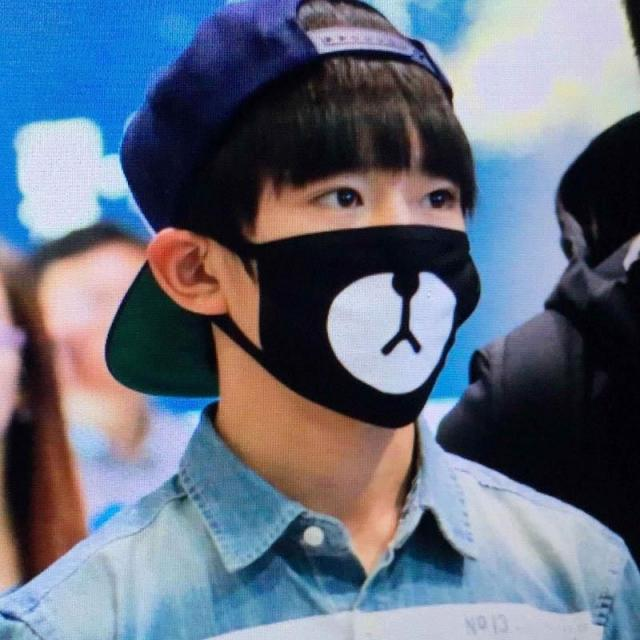mask: (244, 98, 463, 396)
